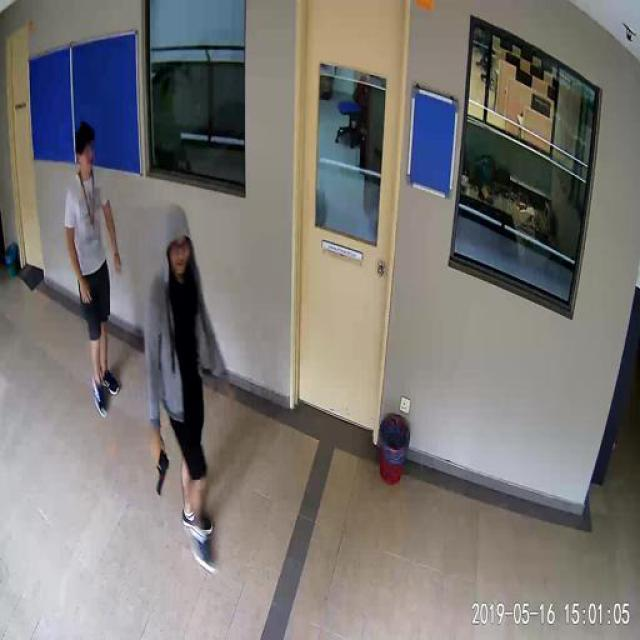Gun: (152, 444, 168, 494)
